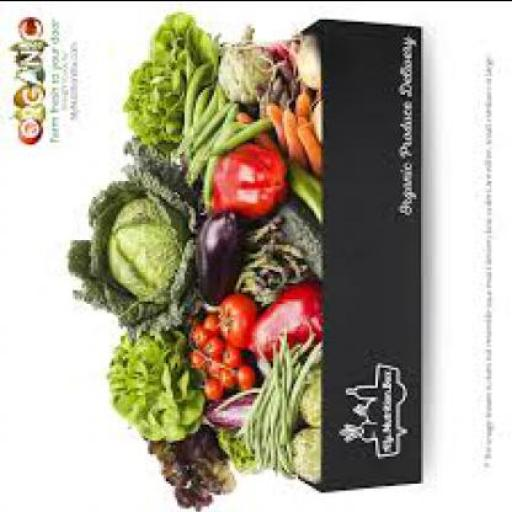biodegradable: (66, 137, 194, 337), (118, 17, 214, 157), (102, 330, 203, 444), (239, 328, 316, 476), (145, 427, 234, 511), (203, 142, 284, 225), (200, 116, 269, 212), (216, 30, 285, 113), (231, 224, 303, 302), (246, 287, 319, 359), (164, 90, 228, 170), (180, 107, 236, 185), (195, 214, 237, 312), (273, 198, 319, 282), (180, 66, 214, 143), (198, 389, 257, 432), (216, 296, 258, 348), (287, 164, 319, 228), (289, 428, 319, 484), (292, 121, 318, 177), (278, 111, 300, 168), (299, 364, 318, 428), (294, 39, 316, 90), (216, 434, 246, 469), (264, 103, 282, 154), (307, 97, 321, 137), (294, 88, 310, 120), (233, 364, 252, 389), (214, 367, 232, 391), (200, 378, 218, 402), (200, 315, 216, 339), (202, 342, 221, 361), (223, 348, 239, 370), (189, 353, 205, 373), (189, 326, 202, 350)
cardboard: (291, 21, 419, 493)
